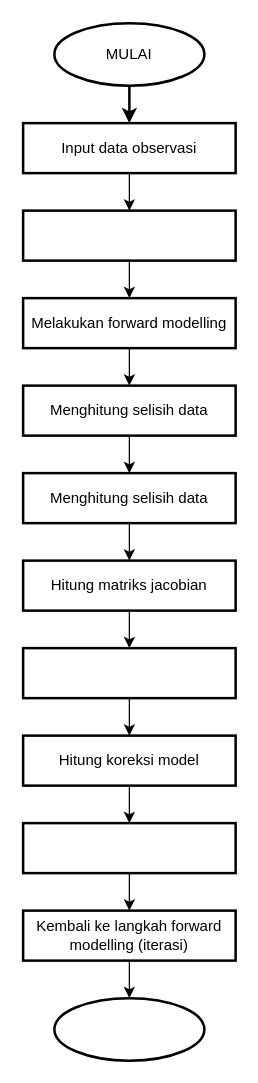
Image size: 258x1083. Some labels were removed from this diagram. Each missing label, with the centre of its shape:
Hitung gradien error: point 128,672
Menentukan model awal: point 128,235
SELESAI: point 128,1028
Update model: point 128,847
